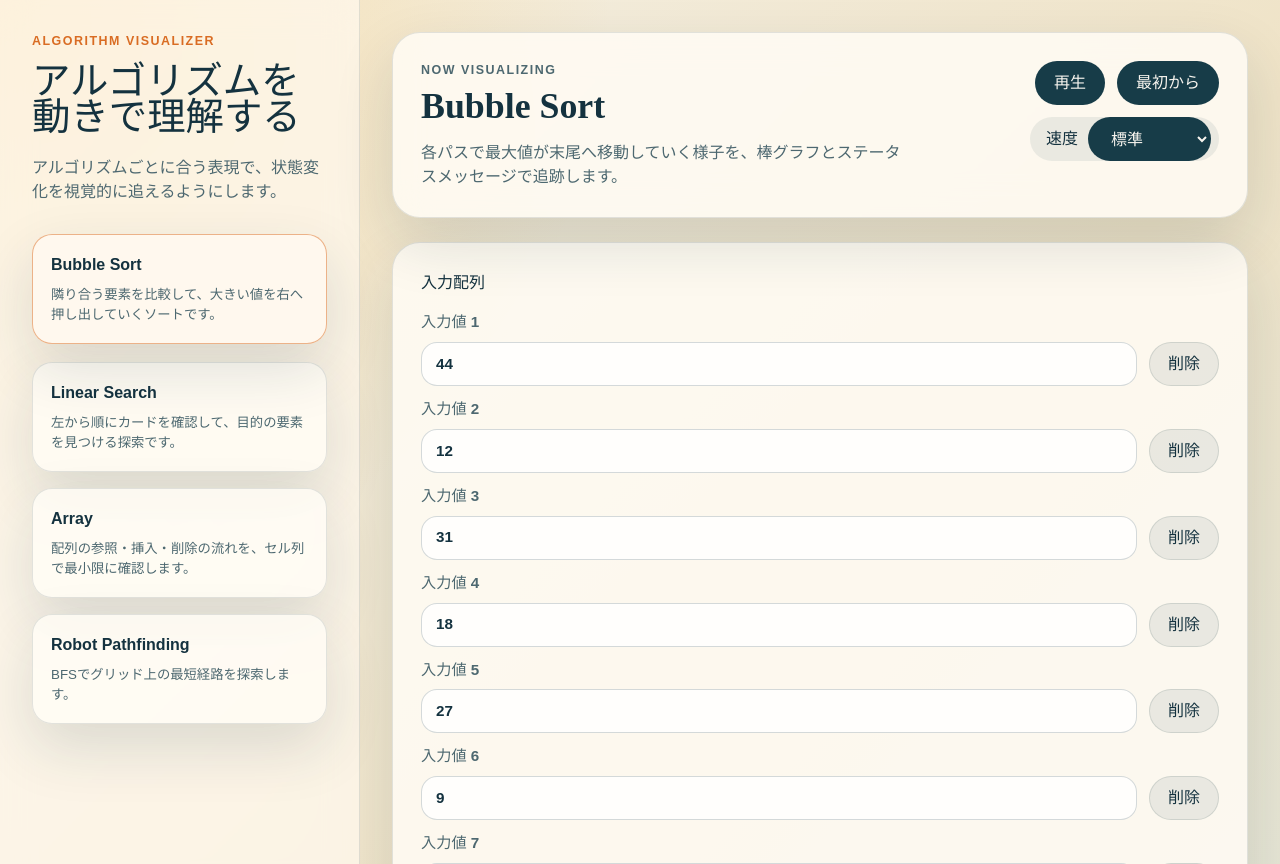
it: App › hides editing controls for array
The image size is (1280, 864).
Click the button "Array 配列の参照・挿入・削除の流れを、セル列で最小限に確認します。" at (180, 543), box 32,488 -> 327,598
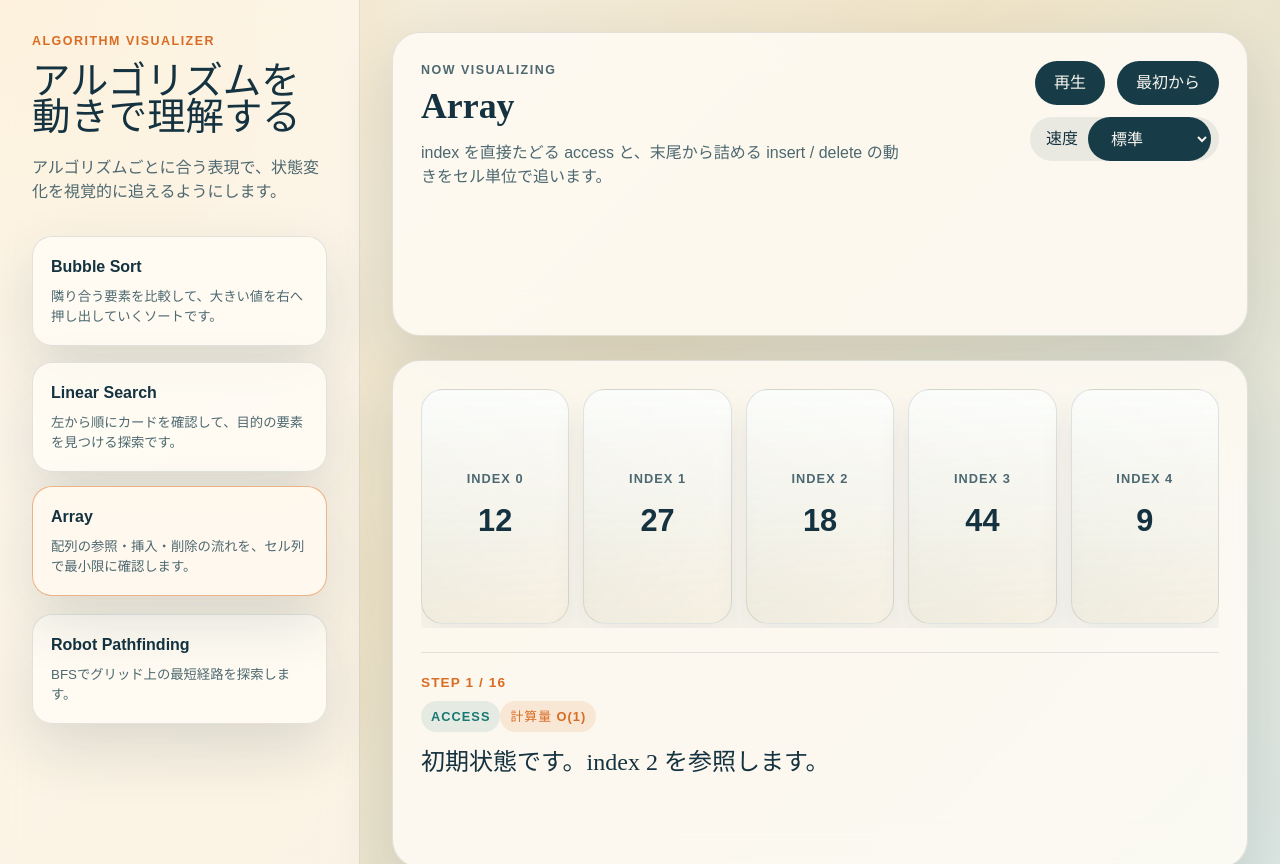
Expected: the text "入力配列" is gone
